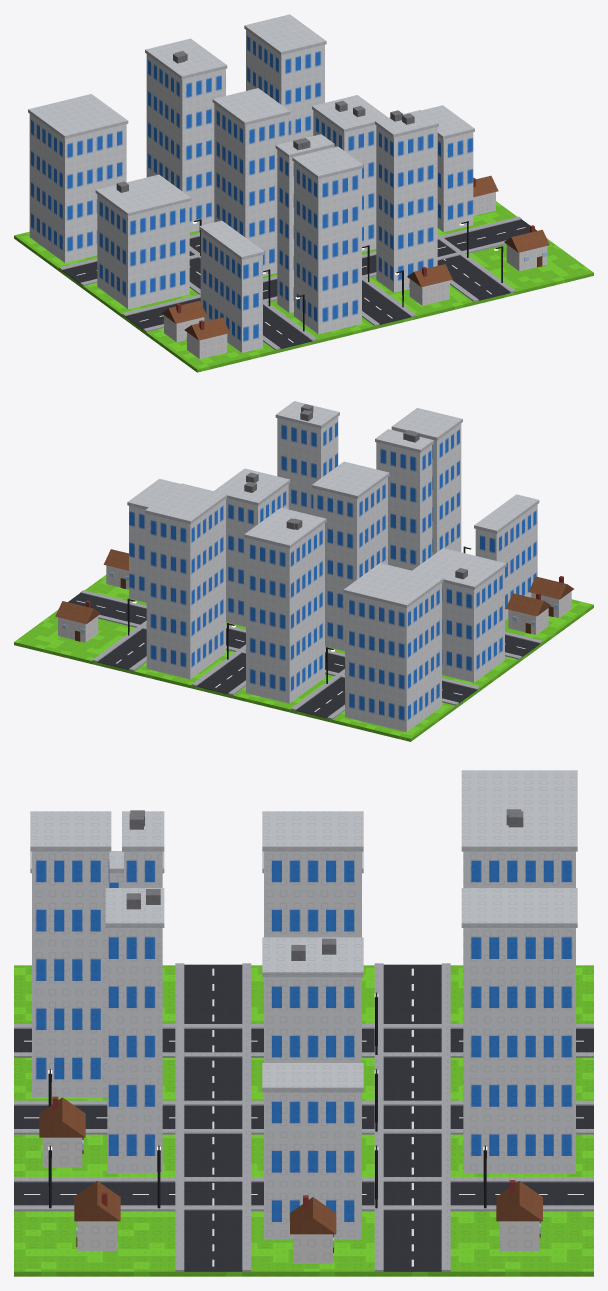
The model's file is Ville_04.glb.
3 renders of one model, top to bottom at view 1: azimuth 30°, elevation 25°; view 2: azimuth 150°, elevation 25°; view 3: azimuth 270°, elevation 25°, orthographic. The views are drawn at different scales.
Visible parts, largest first — view 1: Ville_04; view 2: Ville_04; view 3: Ville_04.
Boxes of the visible parts, <box> form: Ville_04: <box>14,14,593,372</box>; Ville_04: <box>14,401,593,741</box>; Ville_04: <box>14,770,593,1276</box>.
Bounding box in the file's own units: 40 × 16.2 × 32.
Materials: 14 (8 with a texture image).
